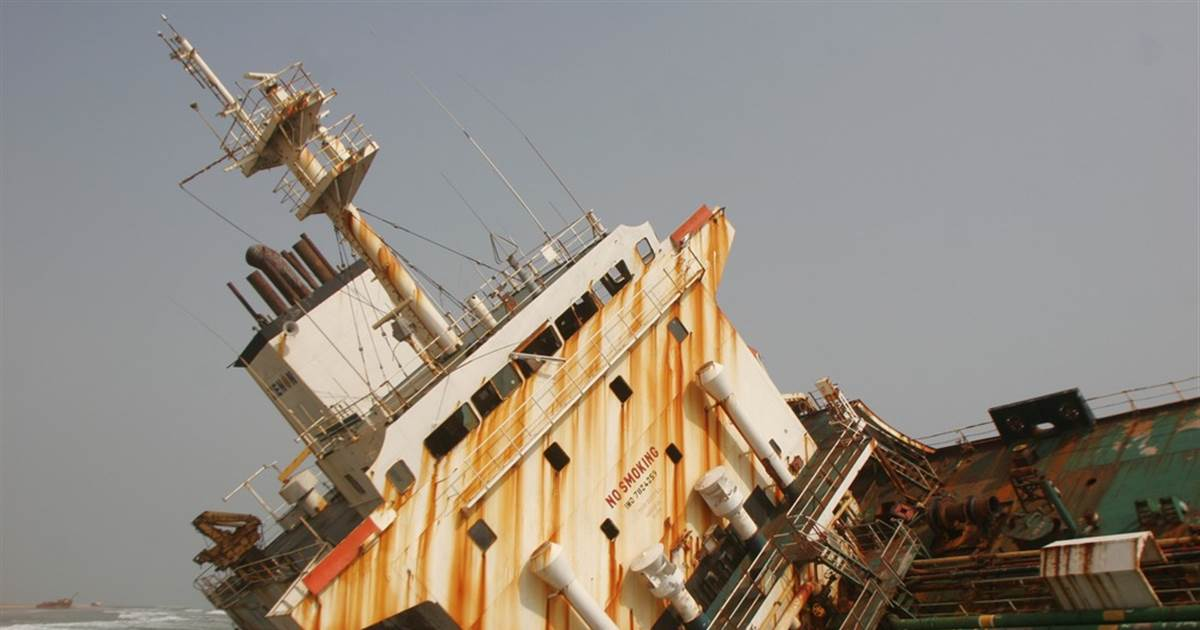rust: (626, 279, 691, 557), (418, 474, 489, 615), (337, 522, 397, 624), (339, 216, 404, 288)
